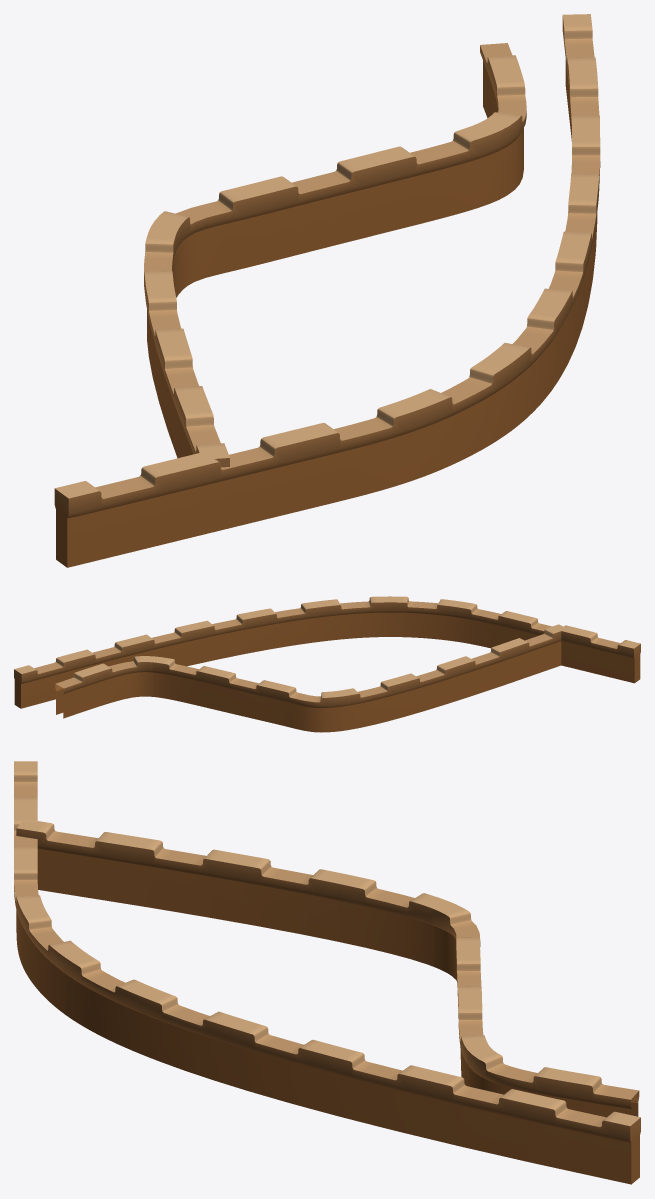
File: Castle Walls.fbx
3 renders of one model, top to bottom at view 1: azimuth 30°, elevation 25°; view 2: azimuth 150°, elevation 25°; view 3: azimuth 270°, elevation 25°, orthographic. The views are drawn at different scales.
Parts seen in each view (by area): view 1: Castle Wall 2, Castle Wall 1; view 2: Castle Wall 2, Castle Wall 1; view 3: Castle Wall 2, Castle Wall 1.
Part boxes in pixels (left/top/right/bottom): Castle Wall 2: left=54, top=14, right=600, bottom=567; Castle Wall 1: left=144, top=43, right=526, bottom=467; Castle Wall 2: left=14, top=596, right=640, bottom=708; Castle Wall 1: left=55, top=624, right=566, bottom=732; Castle Wall 2: left=14, top=761, right=640, bottom=1184; Castle Wall 1: left=16, top=819, right=639, bottom=1117.
Bounding box in the file's own units: 1117 × 84.55 × 811.
